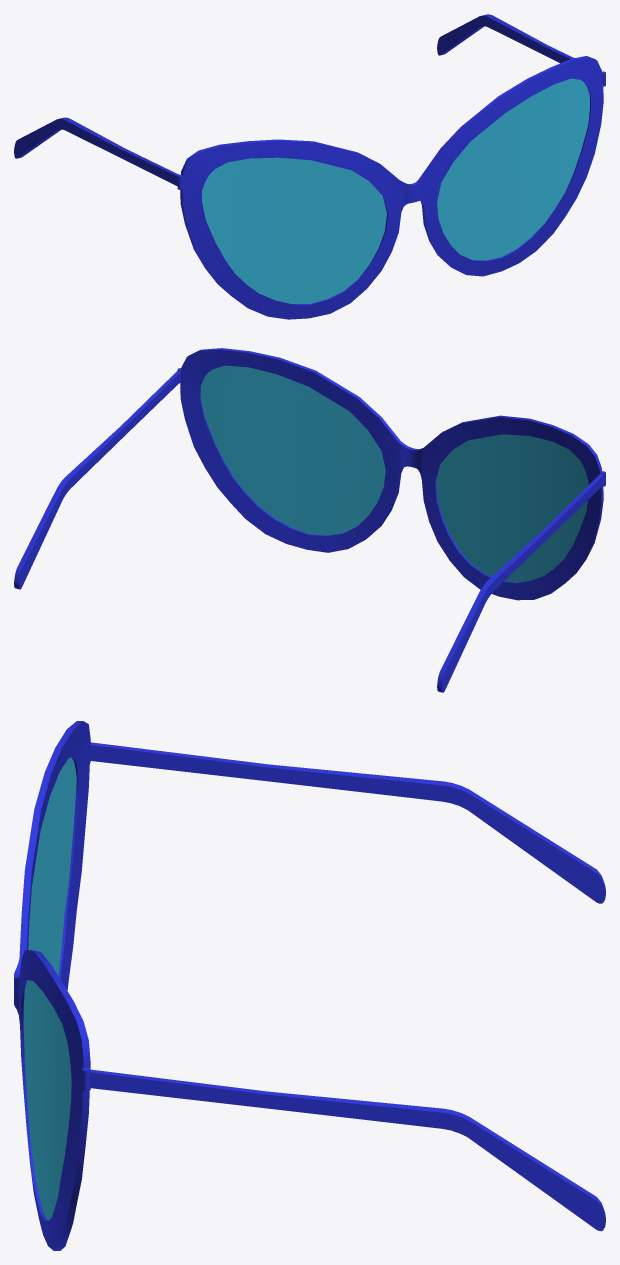
Rendered from glasses17.001.fbx.
3 renders of one model, top to bottom at view 1: azimuth 30°, elevation 25°; view 2: azimuth 150°, elevation 25°; view 3: azimuth 270°, elevation 25°, orthographic. The views are drawn at different scales.
Visible parts, largest first — view 1: glasses17.001; view 2: glasses17.001; view 3: glasses17.001.
Part boxes in pixels (x1,y1,x2,y2): glasses17.001: (14, 14, 605, 319); glasses17.001: (14, 348, 605, 692); glasses17.001: (14, 721, 605, 1250).
Bounding box in the file's own units: 2.15 × 0.8921 × 1.62.
